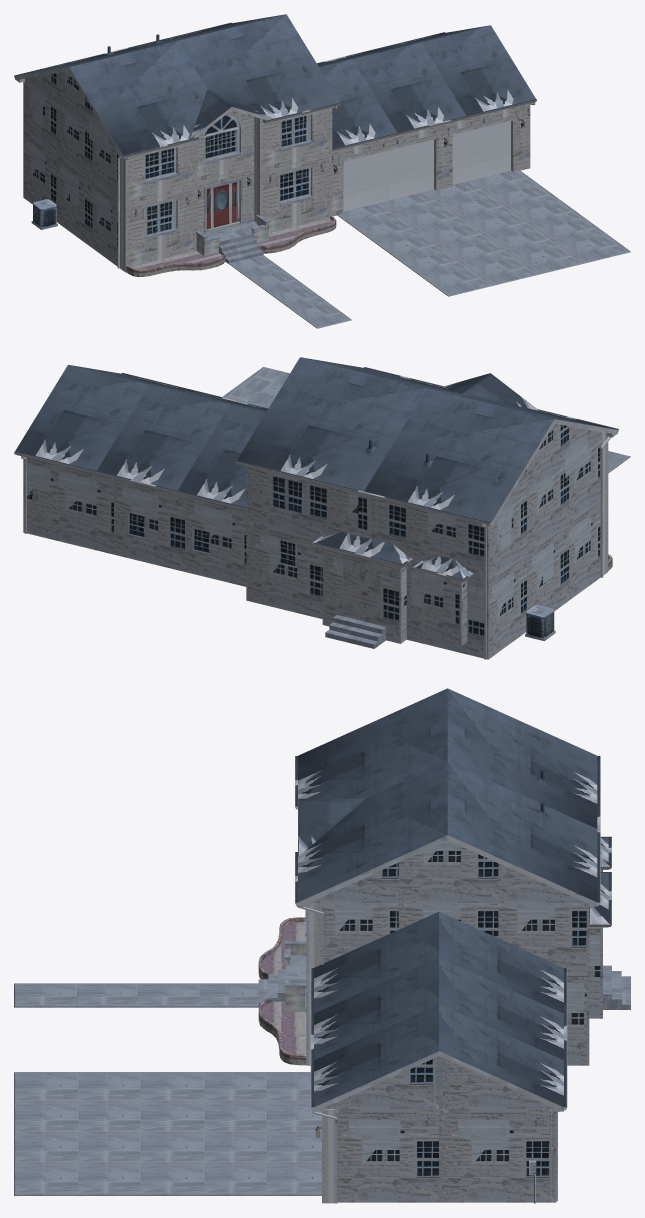
3 renders of one model, top to bottom at view 1: azimuth 30°, elevation 25°; view 2: azimuth 150°, elevation 25°; view 3: azimuth 270°, elevation 25°, orthographic. The views are drawn at different scales.
Parts seen in each view (by area): view 1: mvadapter_node_0008_1e3a65d95f7a41e997c2658877ca9897; view 2: mvadapter_node_0008_1e3a65d95f7a41e997c2658877ca9897; view 3: mvadapter_node_0008_1e3a65d95f7a41e997c2658877ca9897.
Boxes of the visible parts, x1,y1,x2,y2 form: mvadapter_node_0008_1e3a65d95f7a41e997c2658877ca9897: [14, 14, 630, 328]; mvadapter_node_0008_1e3a65d95f7a41e997c2658877ca9897: [14, 357, 630, 659]; mvadapter_node_0008_1e3a65d95f7a41e997c2658877ca9897: [14, 688, 630, 1203].
Size of the model in its own units: 1 by 0.3734 by 0.8916.
Materials: 1 (1 with a texture image).
